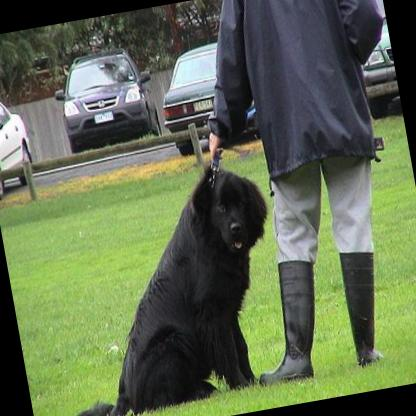Newfoundland: (20, 154, 298, 416)
